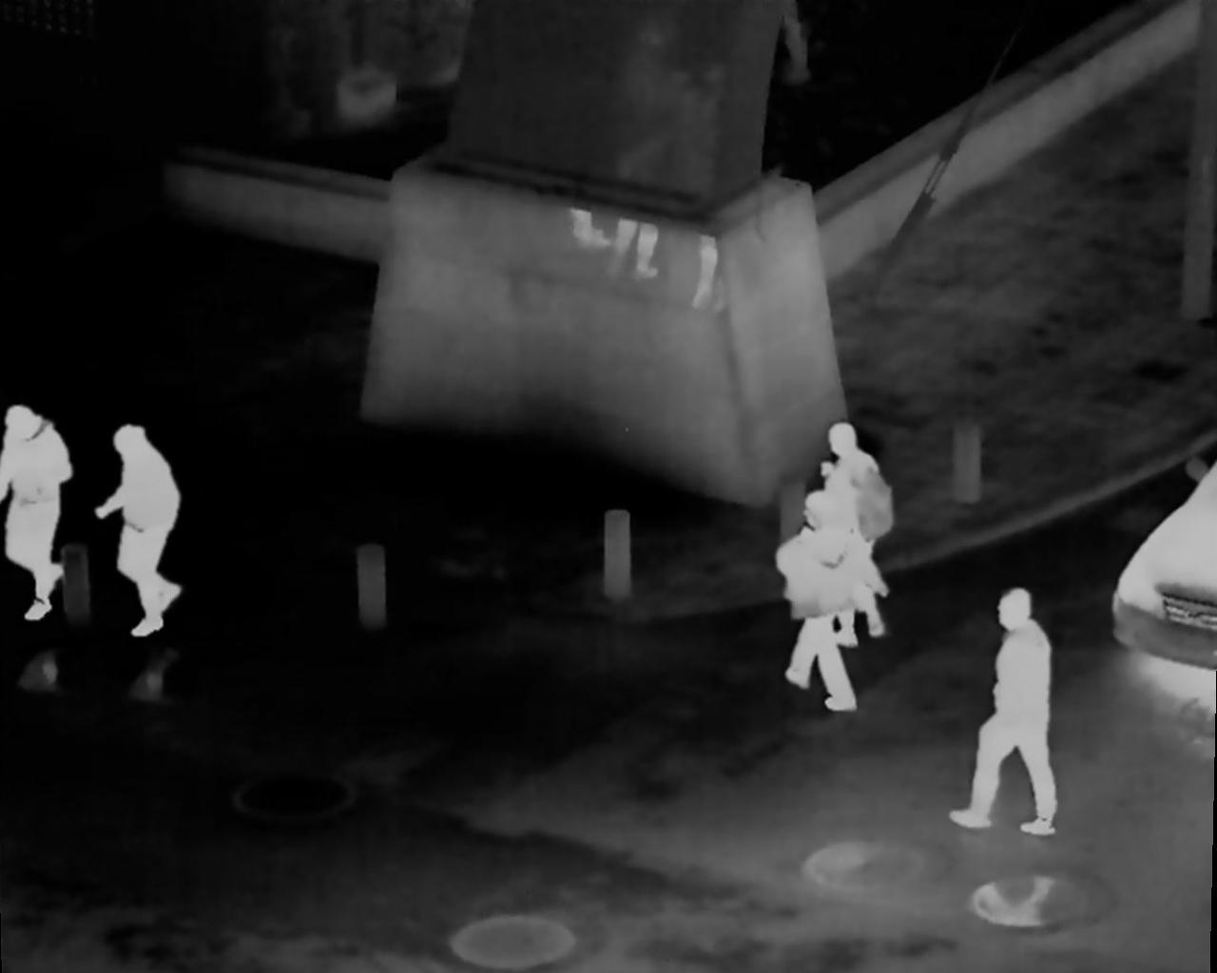person: (962, 582, 1061, 839), (772, 488, 858, 708), (105, 427, 186, 637), (813, 423, 890, 635)
